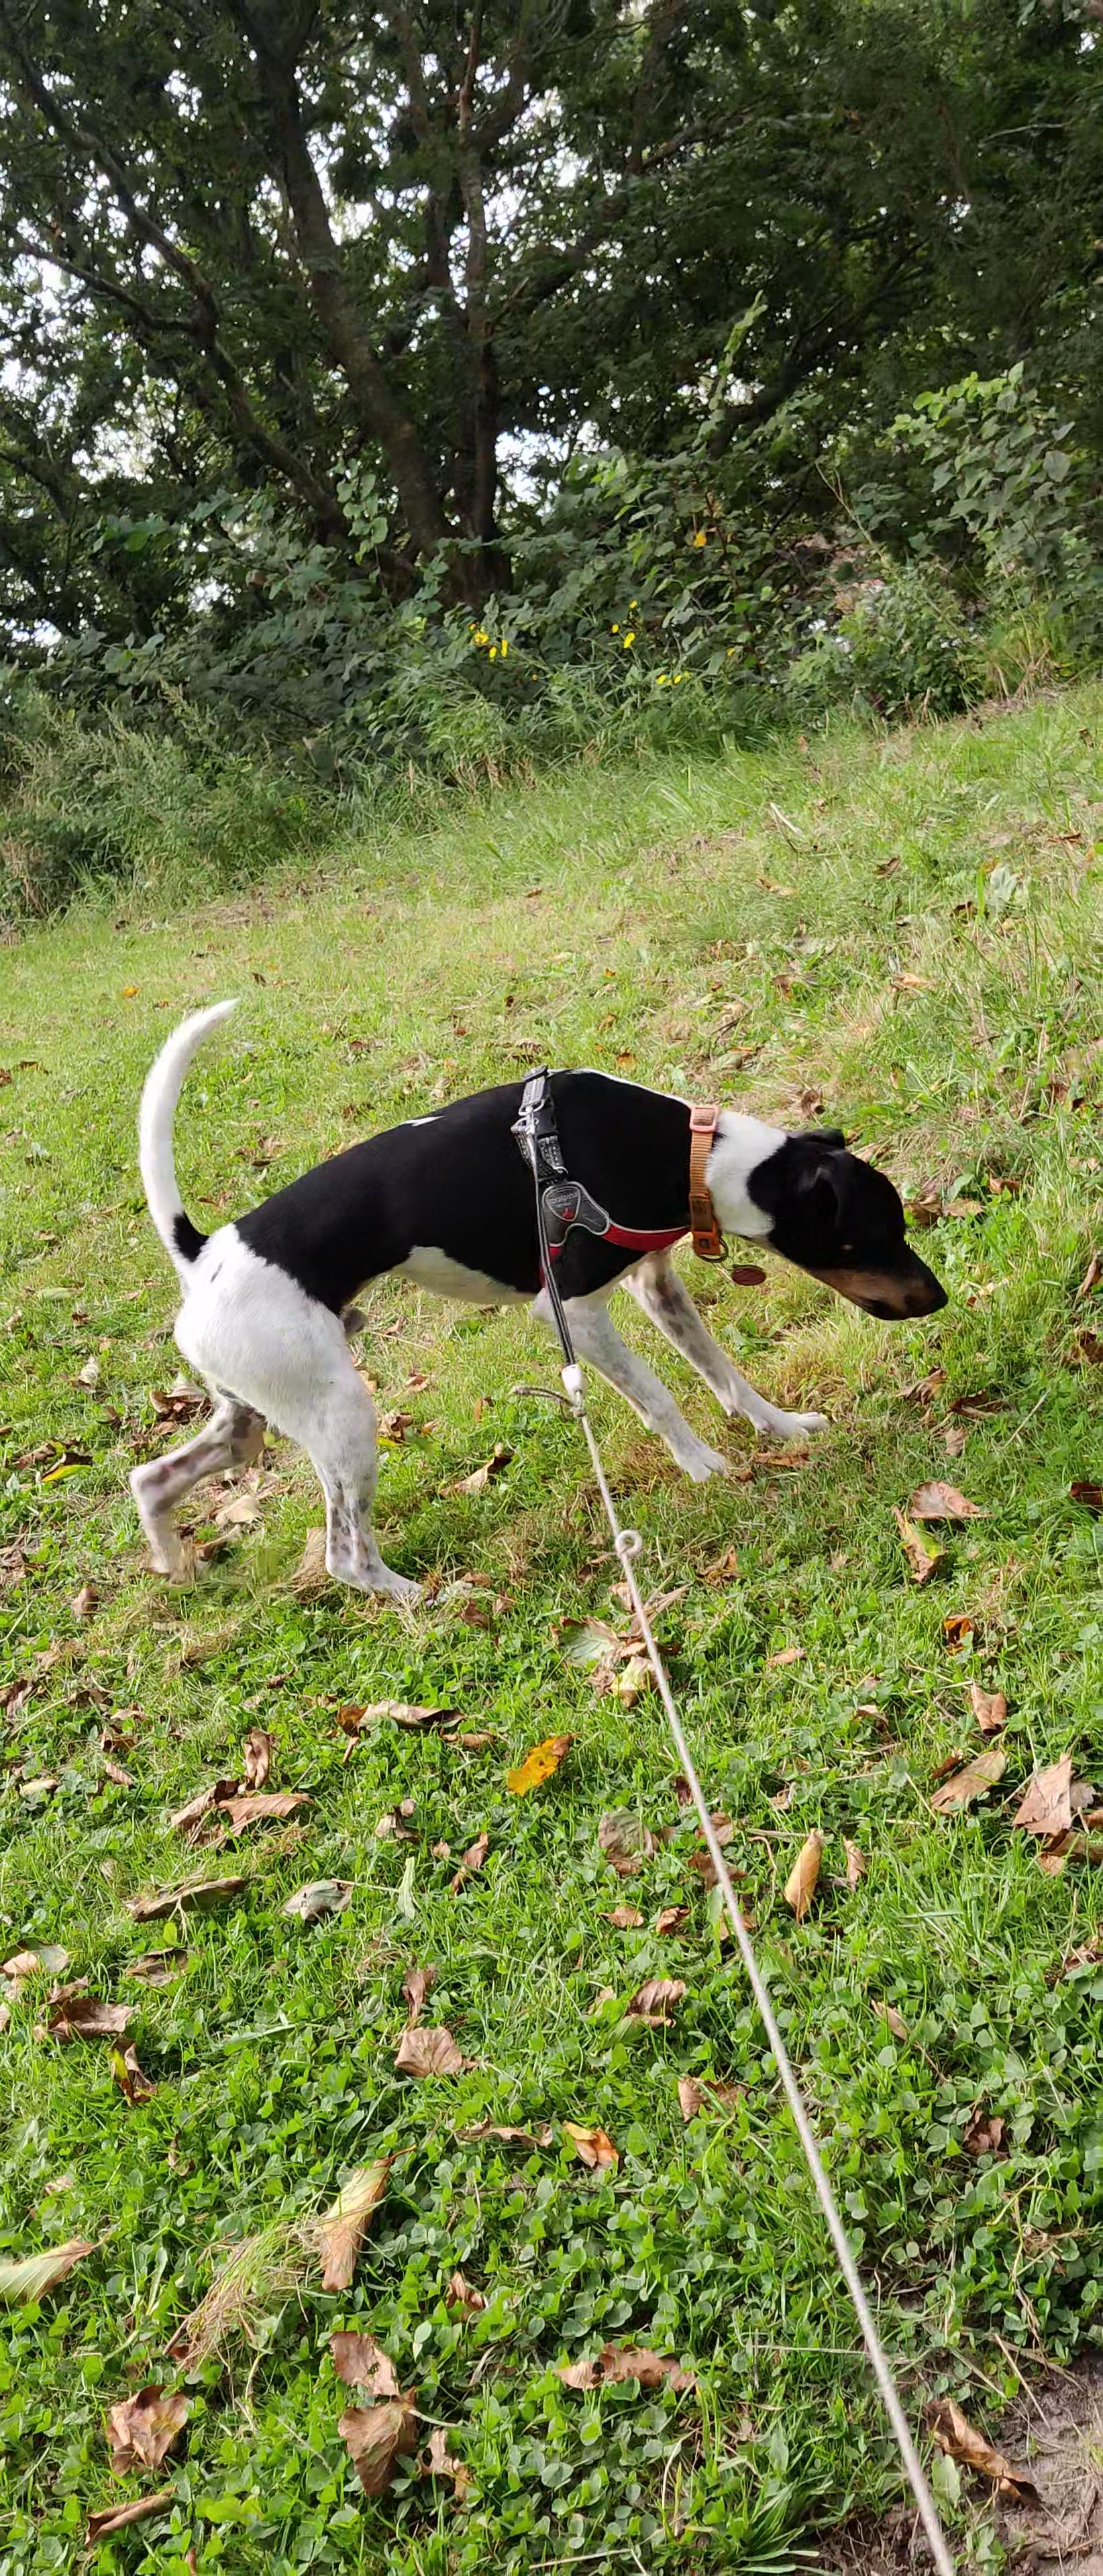Dog: (120, 984, 957, 1618)
